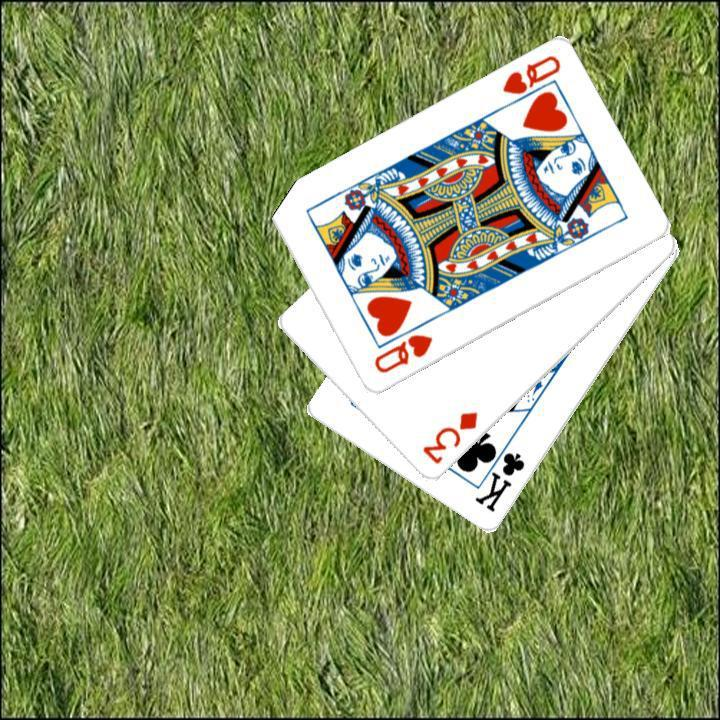3: (417, 407, 480, 467)
K: (470, 435, 527, 515)
Q: (497, 51, 563, 112), (369, 330, 435, 376)
